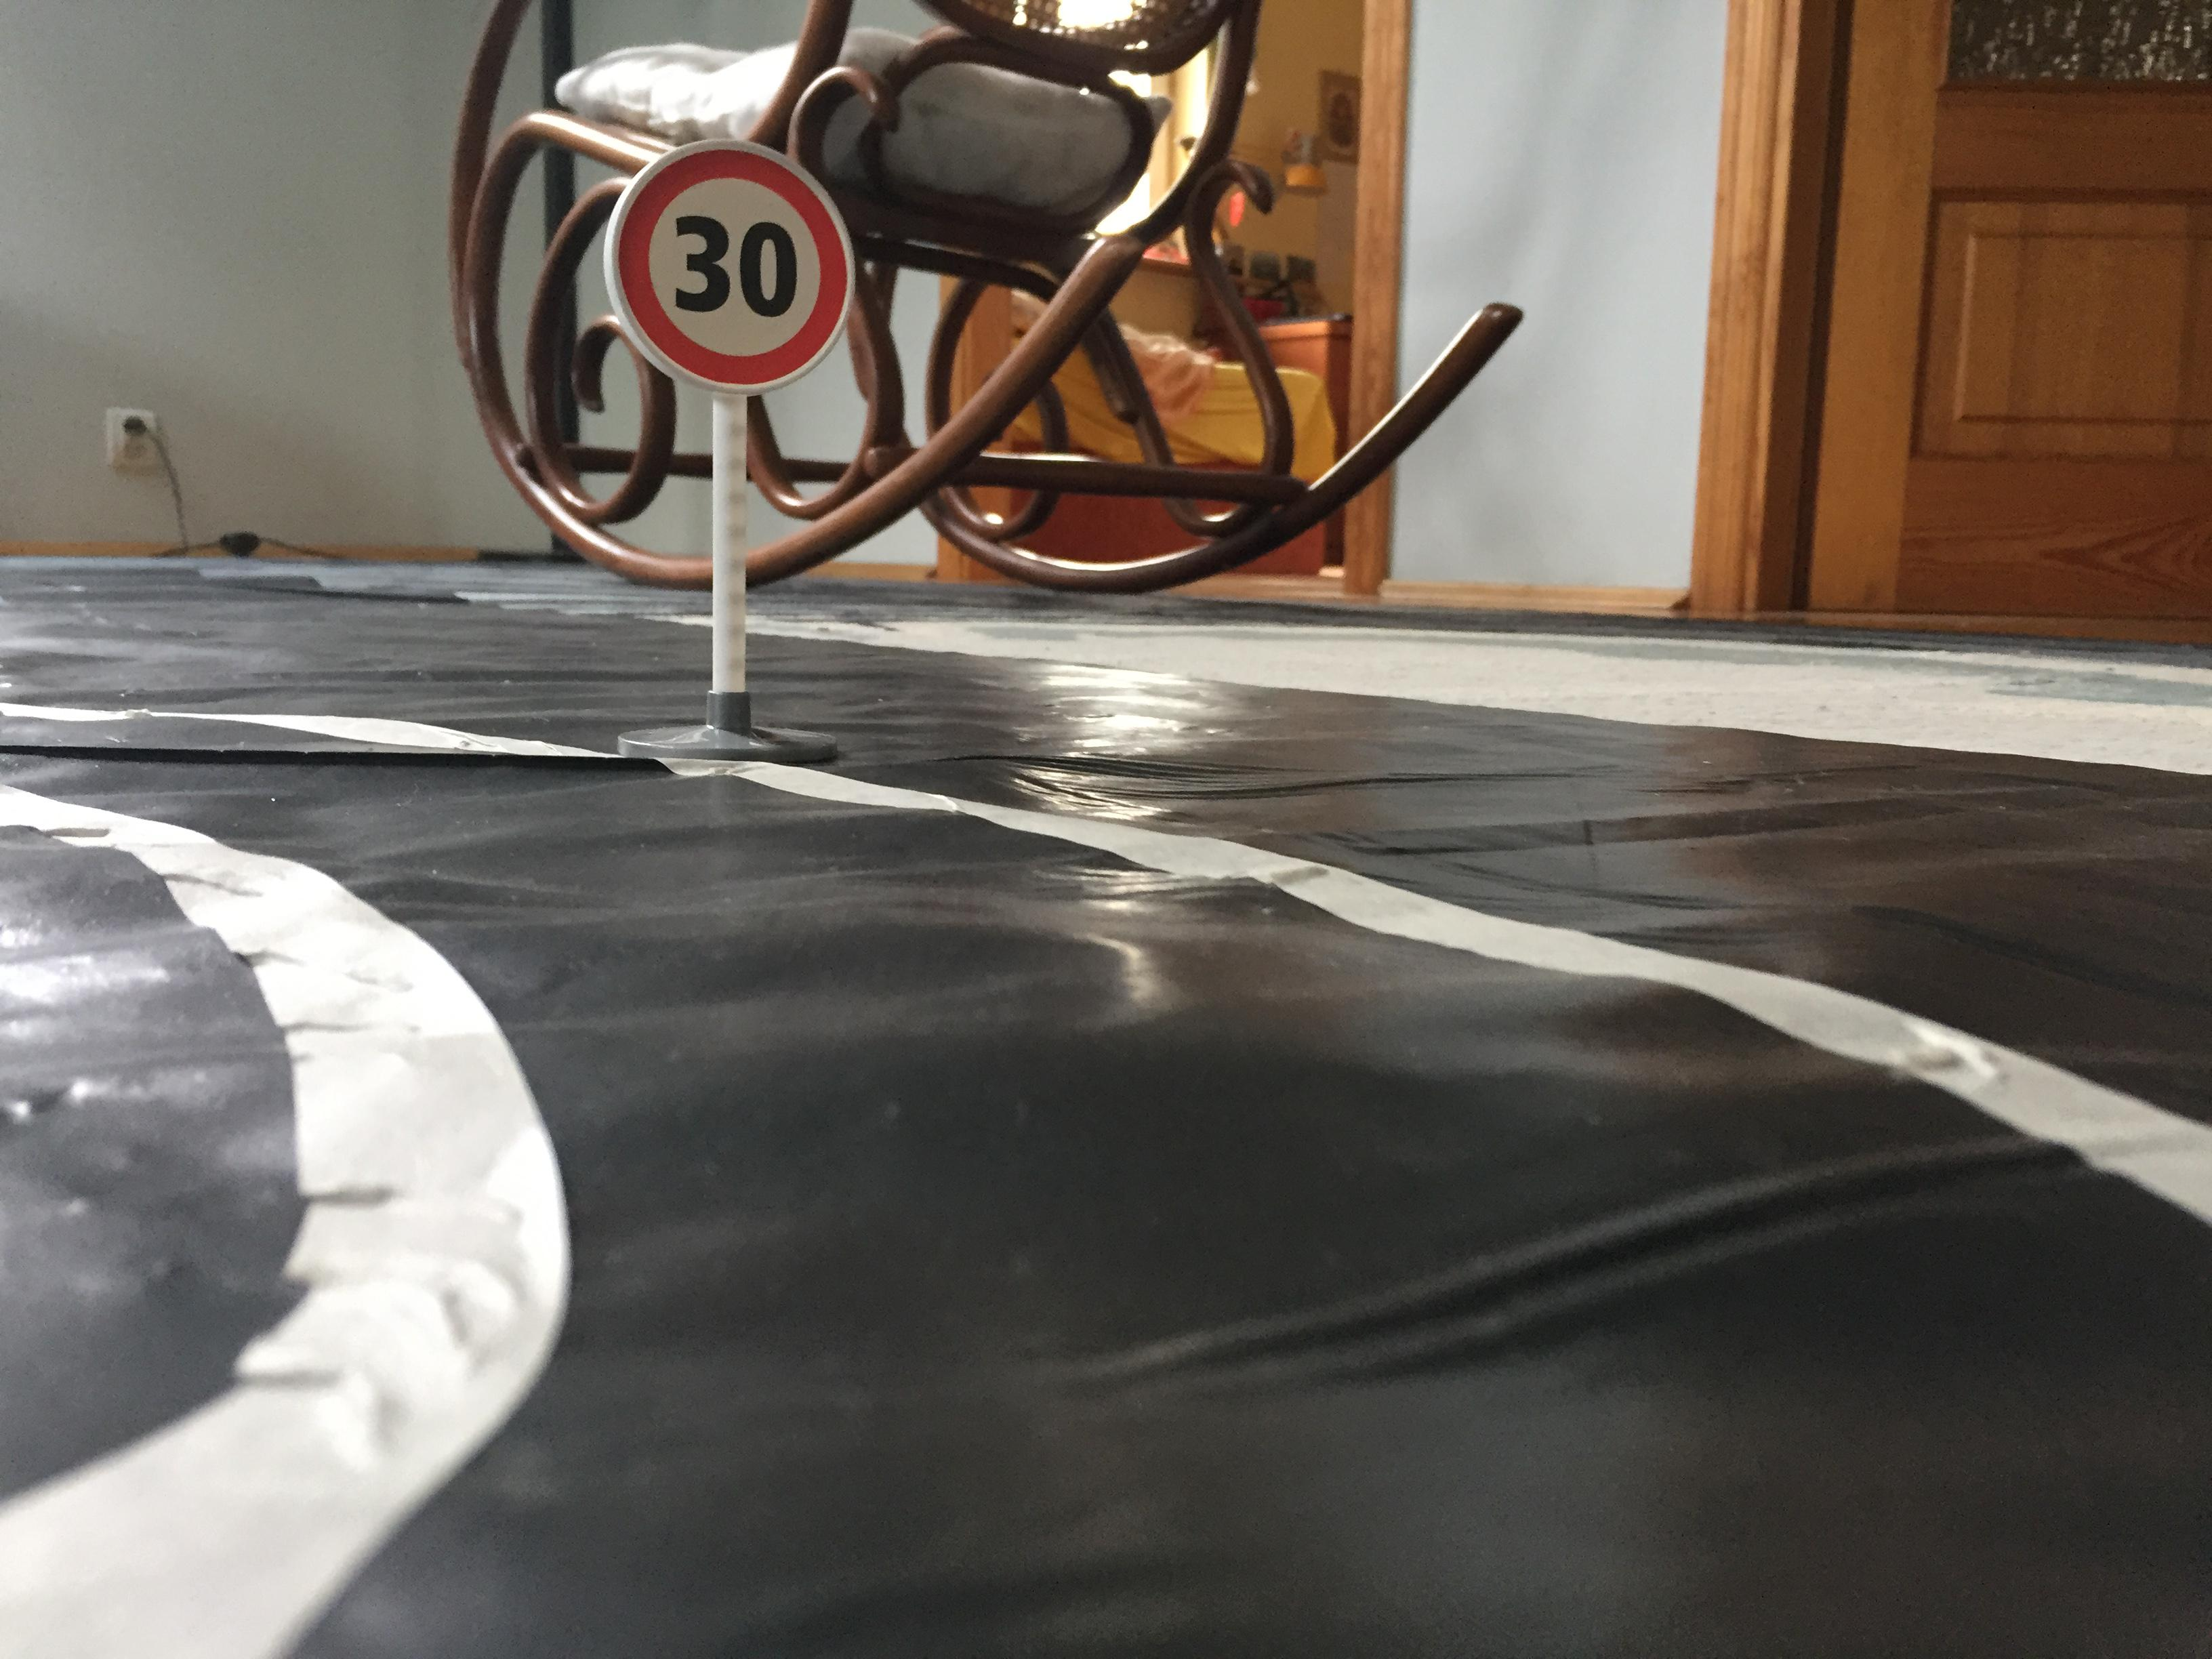speed: (596, 134, 871, 404)
